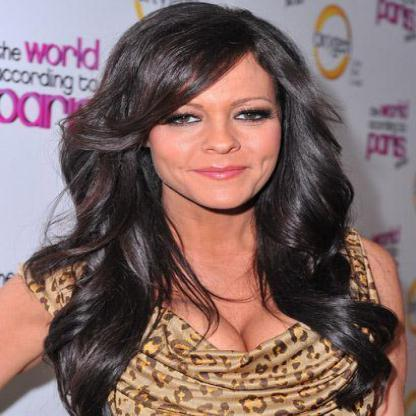long-hair: (23, 212, 366, 274)
